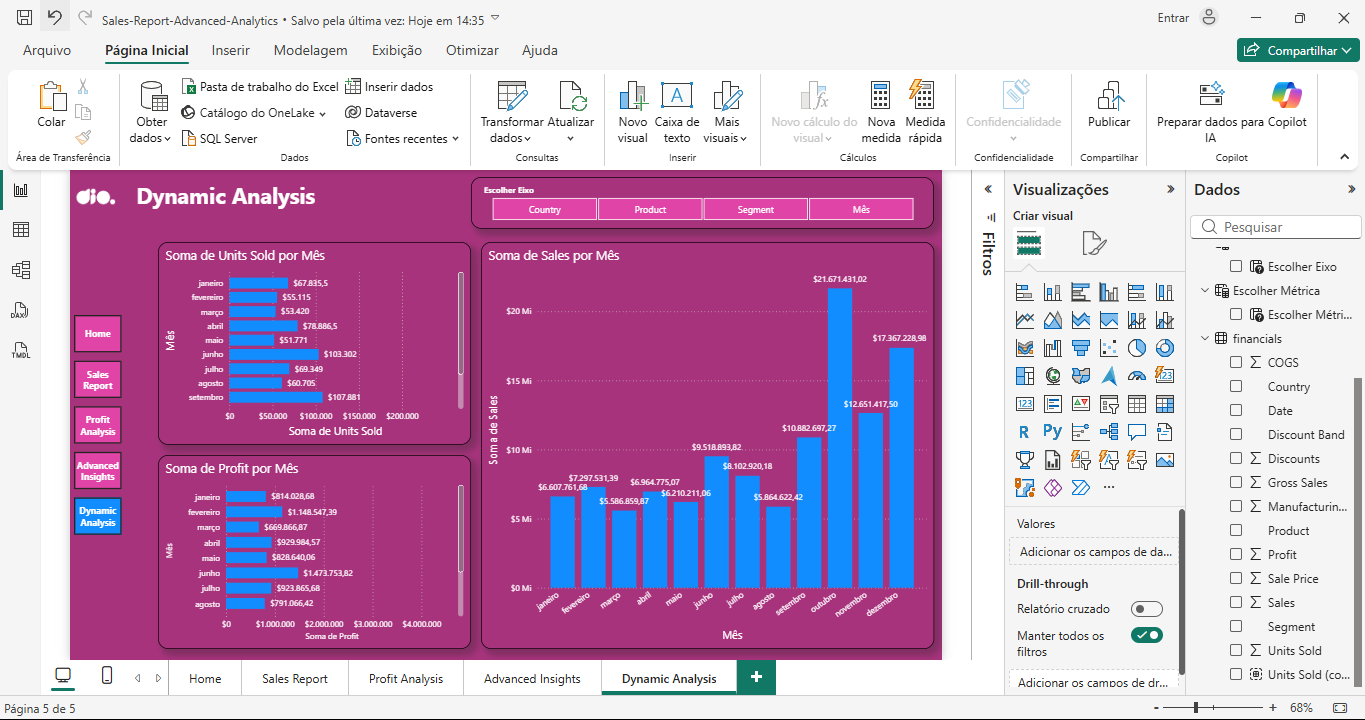

The dashboard page shown, as its layout file describes it:
{"tool":"powerbi","page":{"name":"Dynamic Analysis","canvas":[1280,720],"ordinal":4},"visuals":[{"type":"image","box":[0,0,76.2,77.7],"z":0},{"type":"textbox","box":[92.6,10.3,274.8,67.6],"z":3000},{"type":"pageNavigator","box":[5.9,213.1,70.5,327.7],"z":4000},{"type":"slicer","fields":{"Values":["Escolher Eixo.Escolher Eixo"]},"box":[589.2,10.3,680.3,76.4],"z":6000},{"type":"clusteredColumnChart","fields":{"Category":["financials.Country","financials.Product","financials.Segment","dCalendario.Date.Variation.Hierarquia de datas.Mês"],"Y":["Sum(financials.Sales)"]},"box":[603.9,105.8,665.6,598],"z":6001},{"type":"clusteredBarChart","fields":{"Category":["financials.Country","financials.Product","financials.Segment","dCalendario.Date.Variation.Hierarquia de datas.Mês"],"Y":["Sum(financials.Profit)"]},"box":[129.3,418.8,459.9,285.1],"z":6002},{"type":"clusteredBarChart","fields":{"Category":["financials.Country","financials.Product","financials.Segment","dCalendario.Date.Variation.Hierarquia de datas.Mês"],"Y":["Sum(financials.Units Sold)"]},"box":[129.3,105.8,459.9,298.3],"z":6003}]}

Visuals, with their boxes on the page's 1280x720 design canvas (x1, y1, x2, y2). These are canvas units, not pixel positions in the 1365x720 screenshot, which may show the page scaled, cropped or inside an application window:
image: select_region(0, 0, 76, 78)
textbox: select_region(93, 10, 367, 78)
pageNavigator: select_region(6, 213, 76, 541)
slicer - Escolher Eixo.Escolher Eixo: select_region(589, 10, 1270, 87)
clusteredColumnChart - financials.Country x financials.Product: select_region(604, 106, 1270, 704)
clusteredBarChart - financials.Country x financials.Product: select_region(129, 419, 589, 704)
clusteredBarChart - financials.Country x financials.Product: select_region(129, 106, 589, 404)
